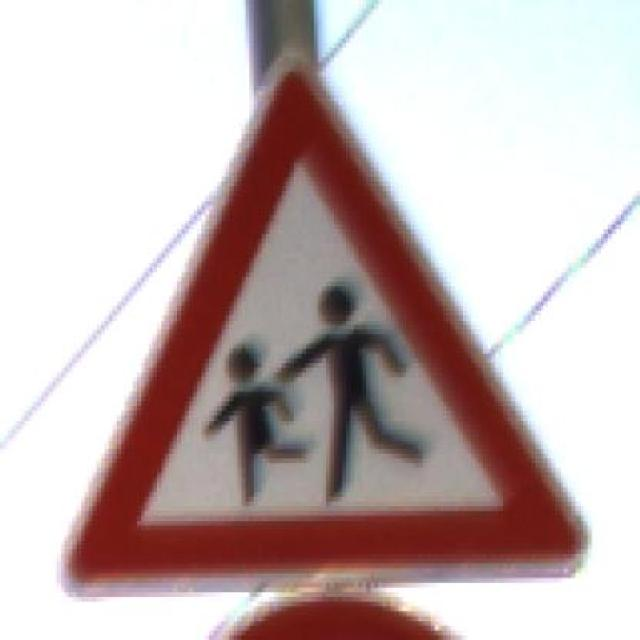Beware of children: (52, 58, 600, 607)
